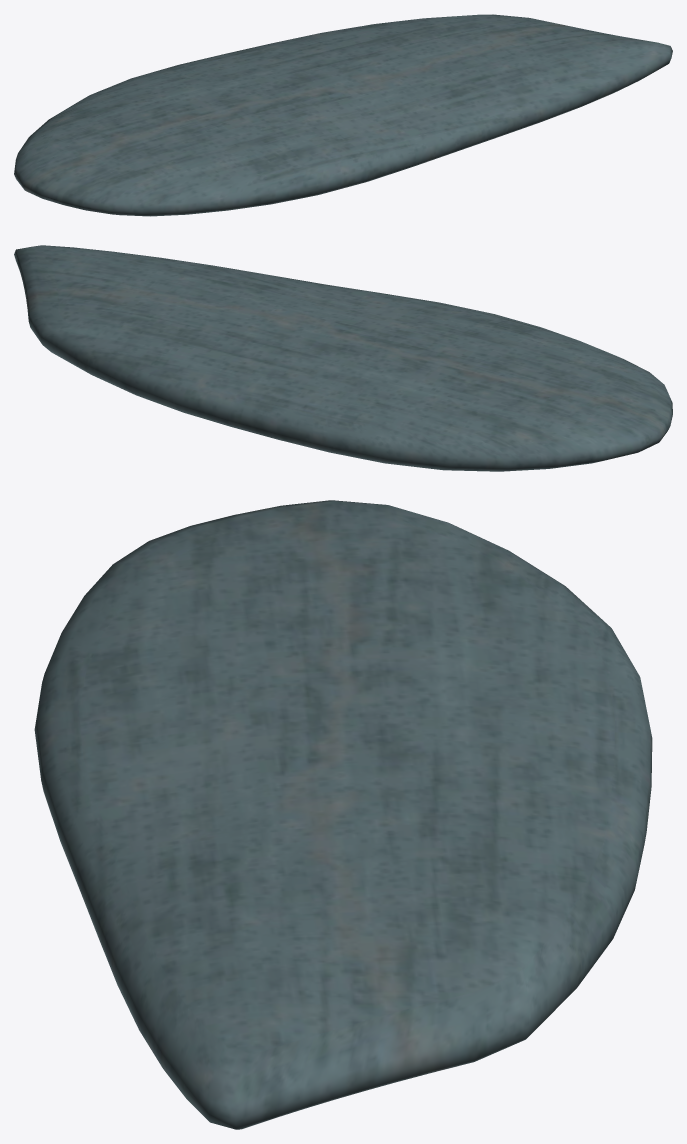
The model's file is willow_leaf_08.glb.
The picture shows the model from 3 angles, top to bottom: view 1: azimuth 30°, elevation 25°; view 2: azimuth 150°, elevation 25°; view 3: azimuth 270°, elevation 25°; orthographic projection. The views are drawn at different scales.
Visible parts, largest first — view 1: willow_leaf_08; view 2: willow_leaf_08; view 3: willow_leaf_08.
Boxes of the visible parts, bbox=[...] form: willow_leaf_08: bbox=[14, 14, 672, 216]; willow_leaf_08: bbox=[14, 245, 672, 471]; willow_leaf_08: bbox=[34, 500, 652, 1129].
Size of the model in its own units: 0.0985 by 0.00738 by 0.0421.
1 material, 1 textured.
